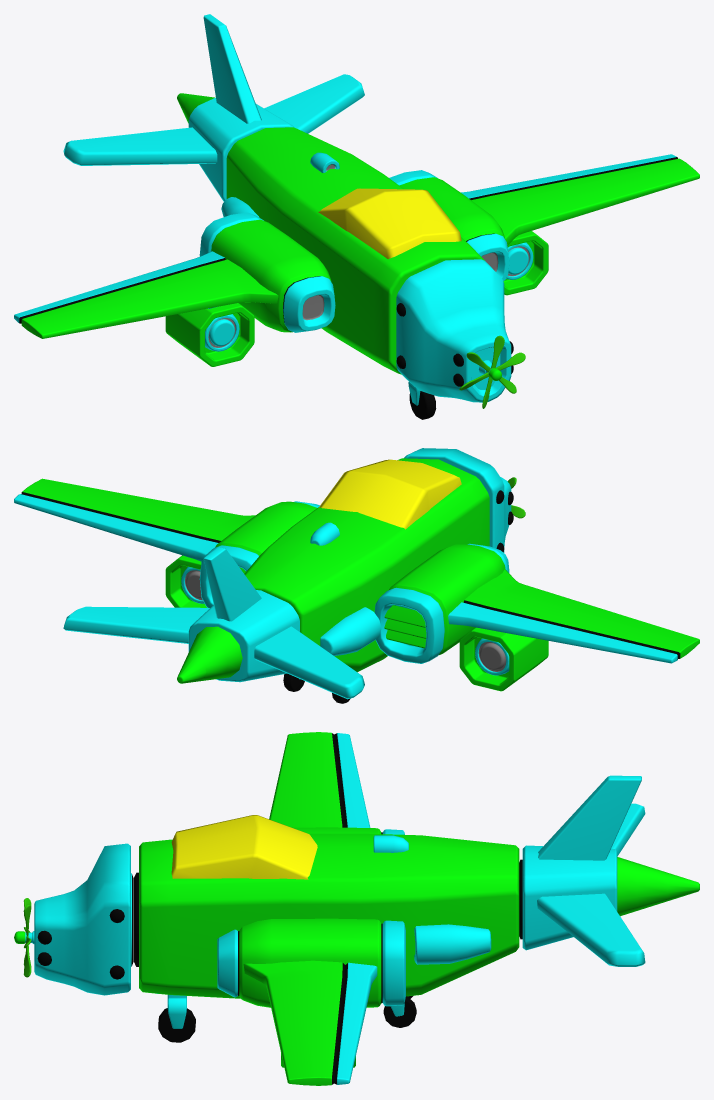
3 renders of one model, top to bottom at view 1: azimuth 30°, elevation 25°; view 2: azimuth 150°, elevation 25°; view 3: azimuth 270°, elevation 25°, orthographic. The views are drawn at different scales.
Parts seen in each view (by area): view 1: Body5, Wing5_R, Fin5, Propeller5_A, Wing5_L, Spurt5_R, Spurt5_L, Propeller5_B, Body5_A; view 2: Body5, Wing5_R, Fin5, Wing5_L, Spurt5_R, Propeller5_A, Spurt5_L; view 3: Body5, Wing5_L, Fin5, Propeller5_A, Wing5_R, Body5_A, Body5_C.
Part boxes in pixels (x1,y1,x2,y2): Body5: (221, 127, 484, 374); Wing5_R: (14, 212, 335, 338); Fin5: (63, 14, 364, 201); Propeller5_A: (396, 259, 513, 402); Wing5_L: (389, 154, 699, 281); Spurt5_R: (165, 303, 254, 366); Spurt5_L: (503, 231, 548, 295); Propeller5_B: (459, 335, 525, 408); Body5_A: (408, 382, 436, 419); Body5: (244, 458, 489, 672); Wing5_R: (374, 543, 699, 663); Fin5: (63, 547, 364, 699); Wing5_L: (14, 478, 319, 607); Spurt5_R: (459, 627, 548, 691); Propeller5_A: (404, 448, 513, 552); Spurt5_L: (165, 555, 207, 607); Body5: (134, 815, 519, 998); Wing5_L: (217, 918, 405, 1085); Fin5: (519, 775, 699, 966); Propeller5_A: (14, 843, 133, 995); Wing5_R: (269, 732, 404, 834); Body5_A: (157, 993, 195, 1042); Body5_C: (383, 996, 416, 1027).
Size of the model in its own units: 23.25 by 8.27 by 19.48.
